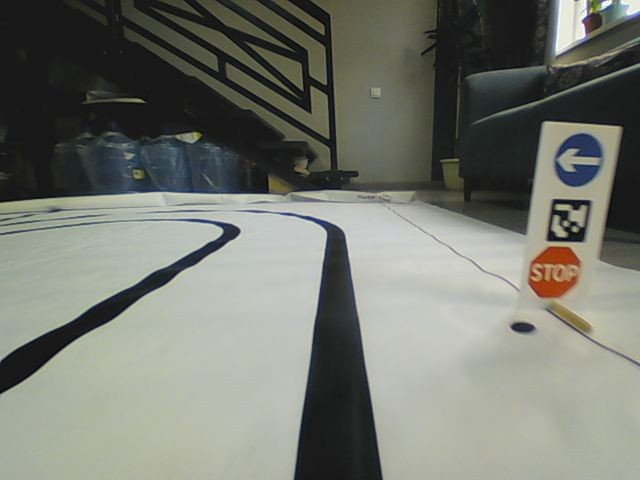Stop: (528, 245, 583, 297)
